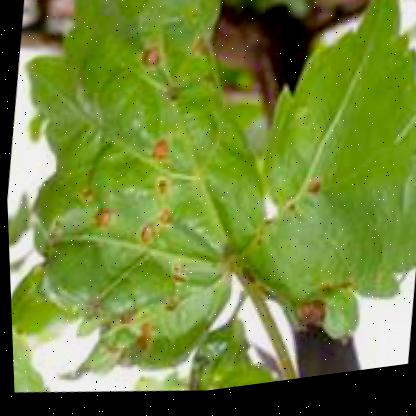AlternariaBrassicicola: (287, 175, 336, 220), (129, 39, 167, 83), (140, 136, 174, 177), (130, 218, 161, 261), (82, 200, 113, 238)
